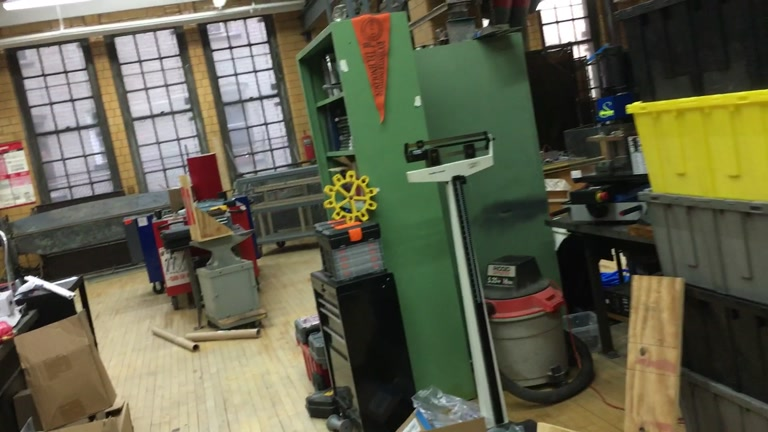gear: (323, 170, 376, 226)
